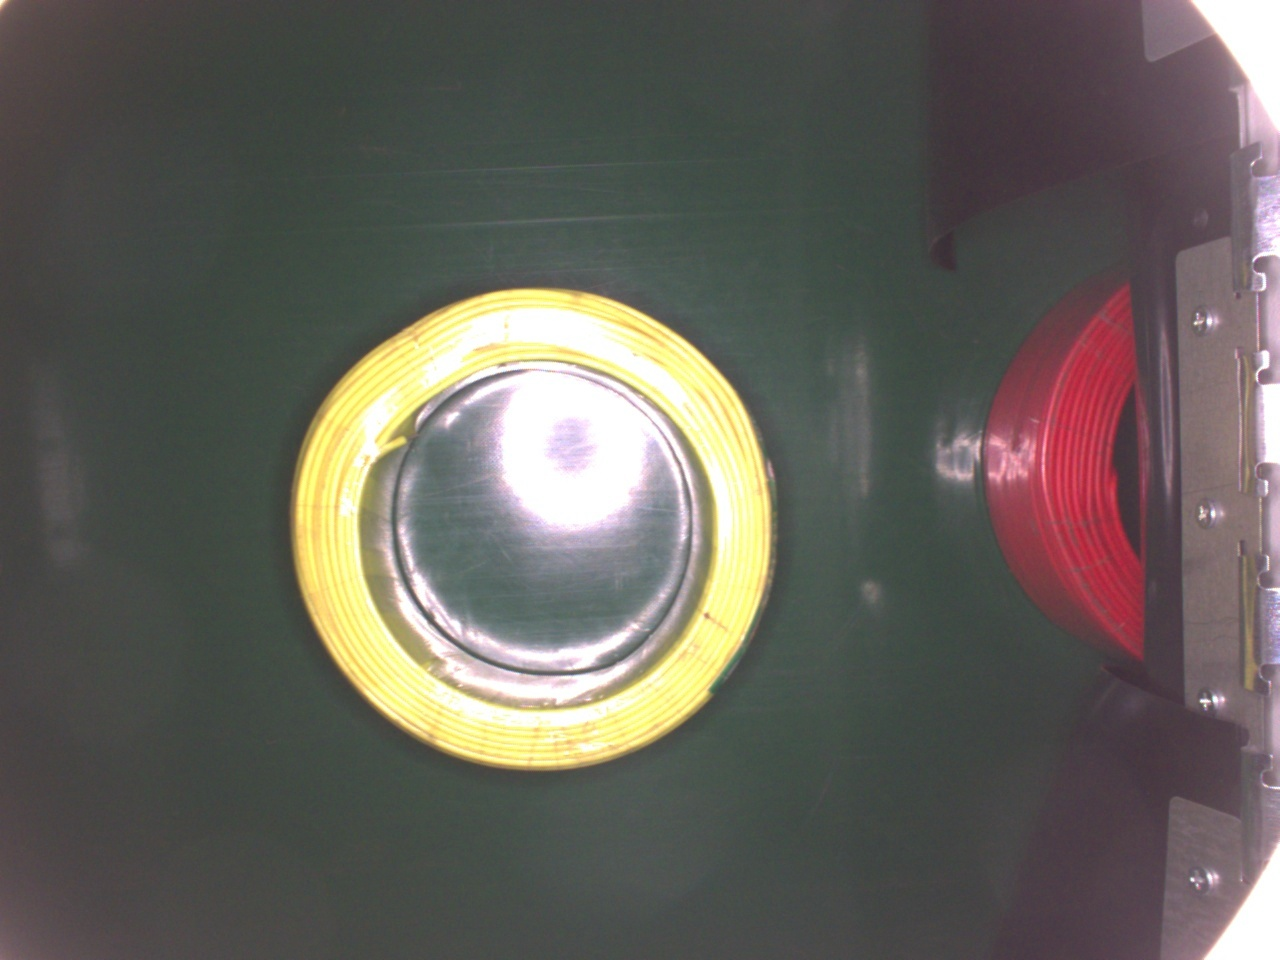red: (979, 263, 1146, 663)
yellow: (291, 283, 782, 774)
